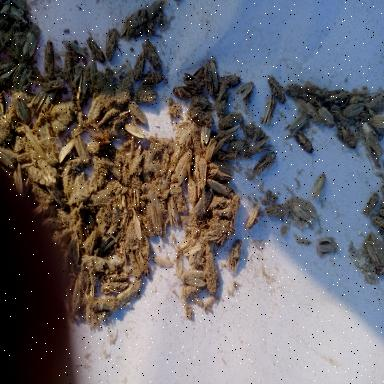pbw: (242, 136, 280, 160), (114, 280, 144, 310), (138, 38, 162, 74), (172, 148, 194, 186), (194, 188, 216, 222), (116, 14, 142, 42), (190, 156, 210, 192), (134, 179, 164, 203), (42, 134, 62, 170), (78, 253, 112, 274), (100, 270, 132, 292), (88, 24, 105, 65), (142, 145, 160, 183), (68, 66, 86, 104), (68, 227, 86, 265), (216, 122, 242, 148), (296, 98, 322, 124), (86, 186, 114, 210), (210, 160, 238, 184), (98, 230, 126, 254), (150, 194, 166, 236), (73, 135, 93, 168), (31, 186, 56, 212), (322, 89, 354, 109), (316, 99, 336, 131), (40, 74, 68, 96), (287, 112, 309, 140), (105, 28, 123, 62), (171, 180, 188, 216), (269, 75, 288, 107), (89, 154, 105, 192), (228, 242, 244, 279), (42, 40, 56, 82), (187, 107, 215, 128), (244, 202, 264, 231), (126, 143, 144, 175), (82, 290, 98, 326), (202, 61, 218, 97), (34, 156, 56, 182), (253, 156, 279, 178), (64, 39, 90, 61), (132, 205, 148, 240), (364, 245, 384, 273), (109, 107, 130, 133), (226, 192, 242, 226), (22, 27, 38, 61), (60, 170, 78, 200), (52, 101, 82, 119), (364, 138, 382, 168), (17, 65, 35, 95), (25, 92, 45, 118), (0, 24, 17, 54), (122, 124, 150, 142), (129, 99, 147, 127), (89, 294, 117, 312), (176, 282, 201, 302), (217, 72, 244, 90), (2, 1, 24, 23), (238, 82, 260, 104), (261, 96, 277, 126), (16, 95, 30, 129), (168, 195, 182, 229), (190, 94, 216, 112), (179, 68, 205, 86), (0, 107, 13, 143), (134, 84, 156, 105), (103, 158, 123, 181), (85, 228, 100, 258), (86, 140, 114, 156), (204, 180, 232, 196), (40, 89, 56, 117), (70, 116, 90, 138), (298, 132, 318, 154), (294, 207, 314, 229), (182, 270, 206, 288), (218, 84, 230, 120), (72, 200, 87, 228), (126, 252, 142, 278), (311, 174, 327, 200), (136, 8, 149, 40), (62, 52, 74, 86), (132, 52, 146, 81), (158, 170, 174, 195), (197, 124, 213, 149), (1, 148, 22, 167), (87, 61, 99, 94), (362, 198, 380, 220), (138, 250, 152, 278), (204, 138, 218, 166), (118, 207, 133, 233), (105, 66, 117, 98), (267, 202, 288, 220), (128, 176, 140, 207), (139, 72, 165, 86), (151, 254, 171, 272), (15, 168, 27, 198), (96, 112, 116, 130), (115, 186, 127, 216), (146, 160, 168, 176), (183, 240, 205, 256), (364, 95, 384, 112), (0, 61, 17, 81), (173, 90, 197, 104), (341, 105, 365, 119), (175, 124, 193, 142), (173, 246, 183, 278), (199, 230, 223, 243), (340, 130, 354, 152), (154, 137, 176, 151), (373, 211, 384, 238), (125, 56, 135, 84), (108, 204, 120, 226), (1, 86, 7, 124), (370, 115, 384, 131), (318, 242, 332, 258), (160, 154, 170, 176)
